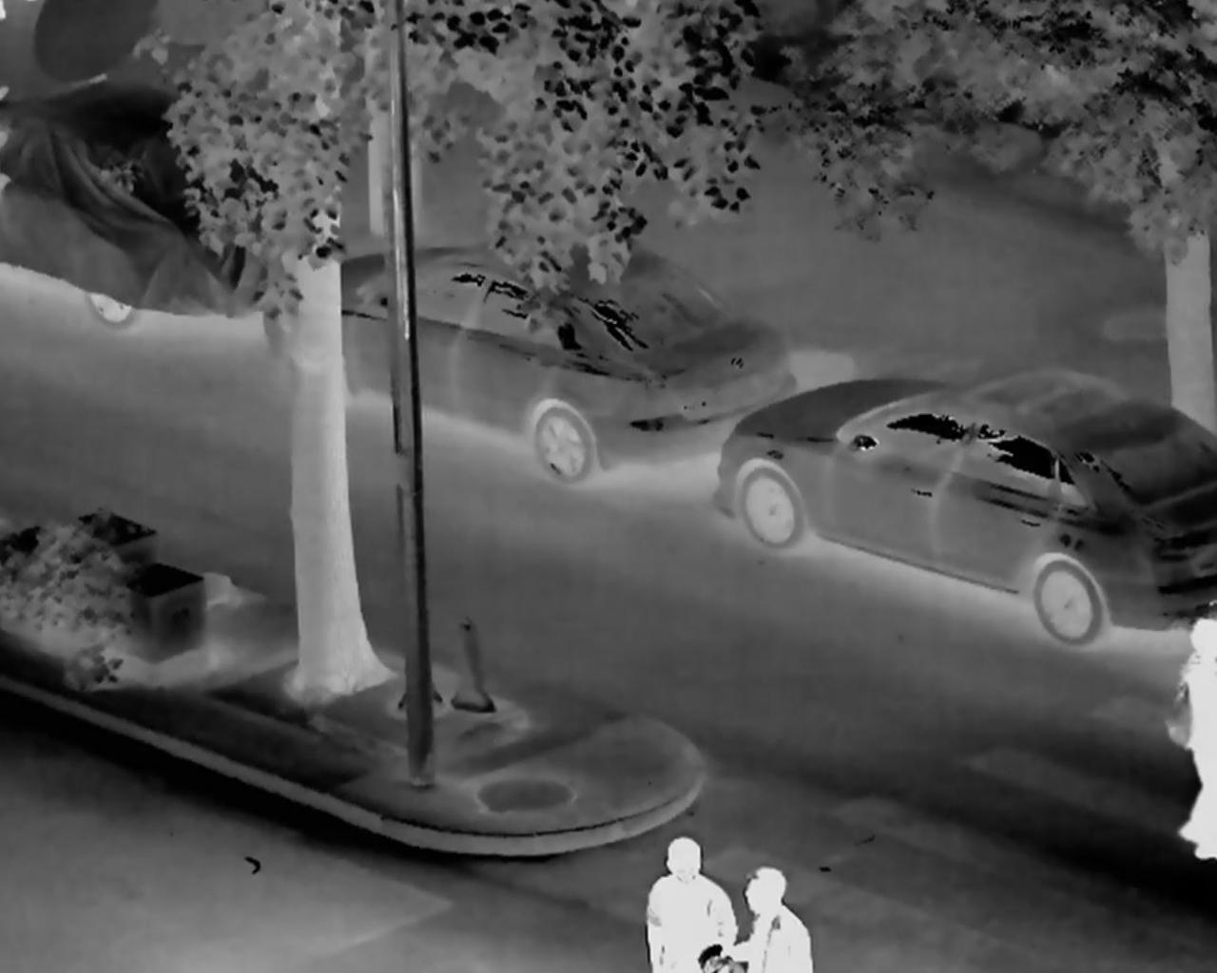person: (633, 827, 744, 973), (1161, 596, 1217, 874), (739, 863, 814, 973)
